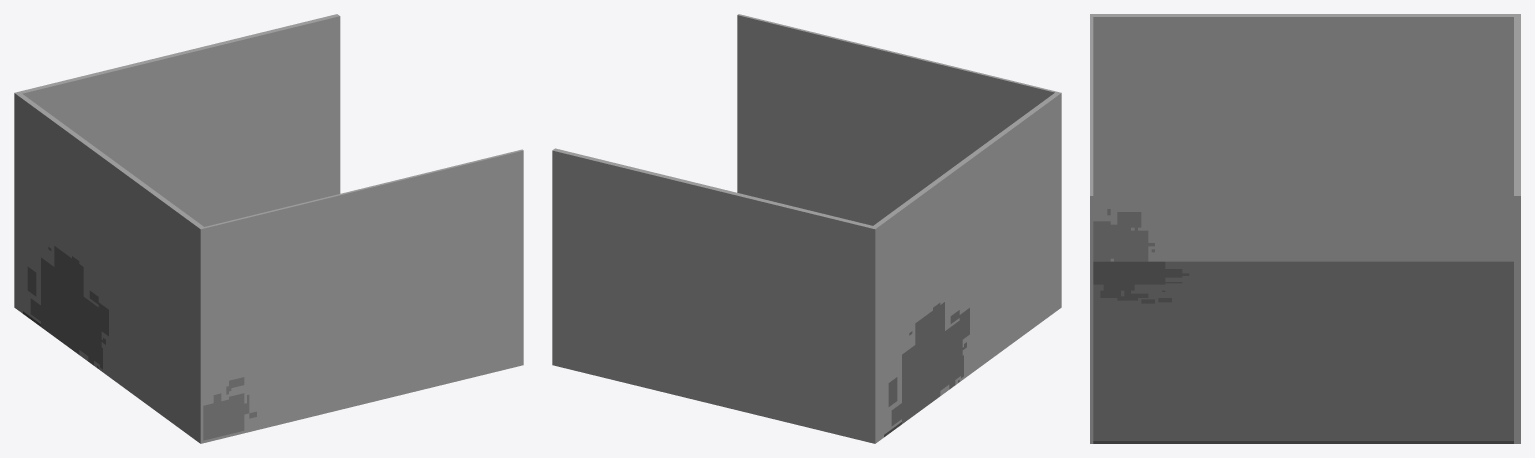
Rendered from 4x2 third (1)-0.obj.
The picture shows the model from 3 angles, left to right: view 1: azimuth 30°, elevation 25°; view 2: azimuth 150°, elevation 25°; view 3: azimuth 270°, elevation 25°; orthographic projection. The views are drawn at different scales.
Visible parts, largest first — view 1: 4x2 third (1)-0; view 2: 4x2 third (1)-0; view 3: 4x2 third (1)-0.
Part boxes in pixels (<box>): 4x2 third (1)-0: <box>14,14,523,443</box>; 4x2 third (1)-0: <box>552,14,1061,443</box>; 4x2 third (1)-0: <box>1090,14,1520,443</box>.
Bounding box in the file's own units: 126 × 80 × 126.
1 material, 1 textured.
